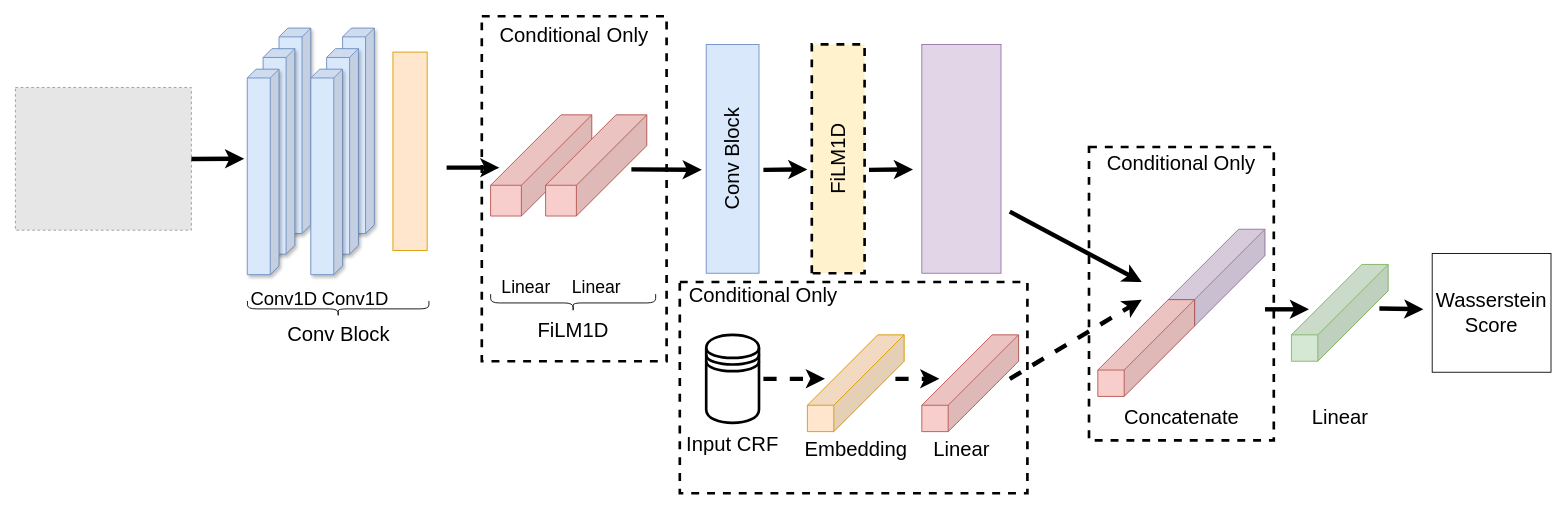
The diagram is 1566 pixels wide and 510 high, and some of its shapes have lost their labels. Grey dashed boxes stand in for pictures. Here are the shapes that lost their labels. From the top down, the centre of each, then its label:
the point at 409,151: MaxPool1D
the point at 961,158: MiniBatch Discrimination
